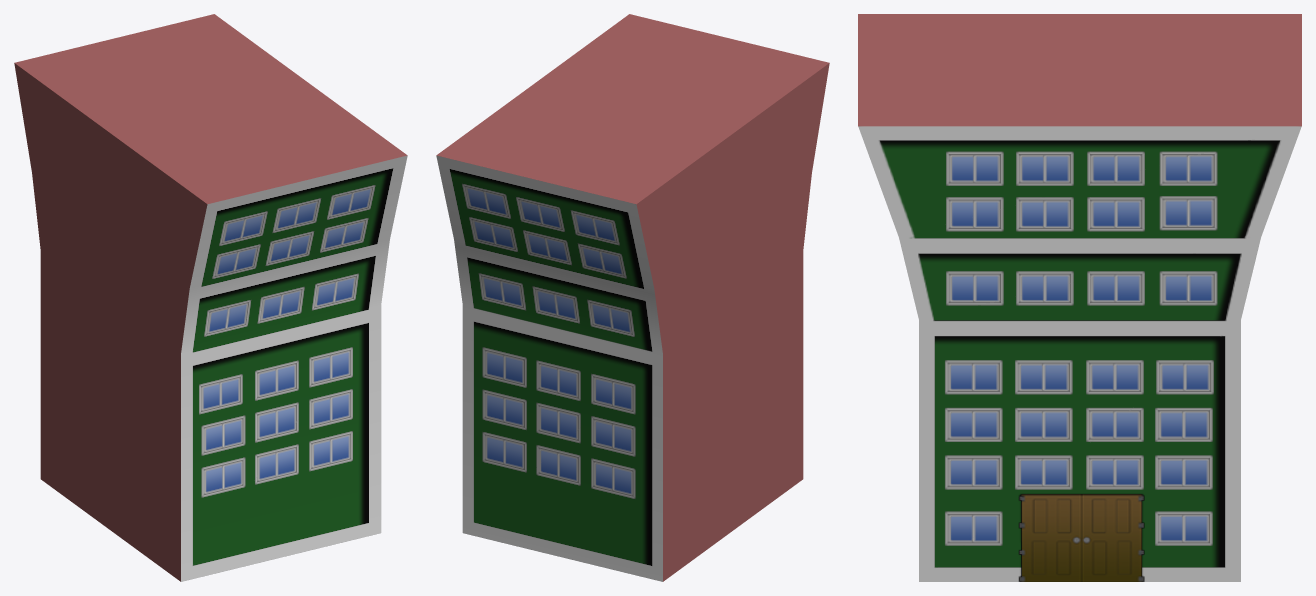
File: Building10 V2.fbx
3 renders of one model, left to right at view 1: azimuth 30°, elevation 25°; view 2: azimuth 150°, elevation 25°; view 3: azimuth 270°, elevation 25°, orthographic. The views are drawn at different scales.
Parts seen in each view (by area): view 1: Building14; view 2: Building14; view 3: Building14.
Part boxes in pixels (x1,y1,x2,y2): Building14: (14, 14, 407, 581); Building14: (436, 14, 829, 581); Building14: (858, 14, 1301, 581).
Bounding box in the file's own units: 817 × 1548 × 1365.
Materials: 2 (1 with a texture image).
